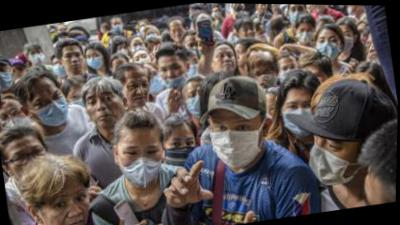NONE: (43, 183, 99, 225), (8, 142, 53, 186), (85, 87, 129, 132), (123, 76, 154, 110), (213, 47, 239, 77), (64, 50, 87, 75), (170, 23, 188, 43), (233, 47, 248, 69), (367, 37, 380, 61), (259, 4, 269, 12)
OK: (307, 126, 365, 190), (207, 111, 268, 171), (117, 139, 169, 190), (280, 94, 323, 140), (31, 85, 72, 129), (163, 130, 201, 171), (1, 106, 31, 139), (316, 32, 344, 61), (252, 64, 280, 93), (184, 86, 207, 121), (334, 27, 357, 54), (277, 60, 302, 84), (69, 87, 90, 114), (1, 61, 18, 94), (296, 23, 319, 46), (84, 49, 106, 71), (148, 68, 167, 93), (184, 38, 204, 61), (288, 4, 309, 25), (183, 57, 203, 78), (133, 51, 153, 70), (51, 58, 69, 79), (130, 37, 149, 55), (29, 48, 47, 66), (265, 101, 280, 121), (117, 42, 131, 59), (256, 24, 269, 42), (144, 28, 159, 41), (112, 18, 125, 32), (57, 25, 70, 38), (80, 39, 91, 52), (138, 22, 149, 34), (232, 4, 246, 13), (346, 5, 357, 16), (211, 7, 220, 19)
WRONG: (159, 60, 190, 93), (240, 22, 260, 43), (10, 64, 28, 83), (308, 5, 324, 15)
